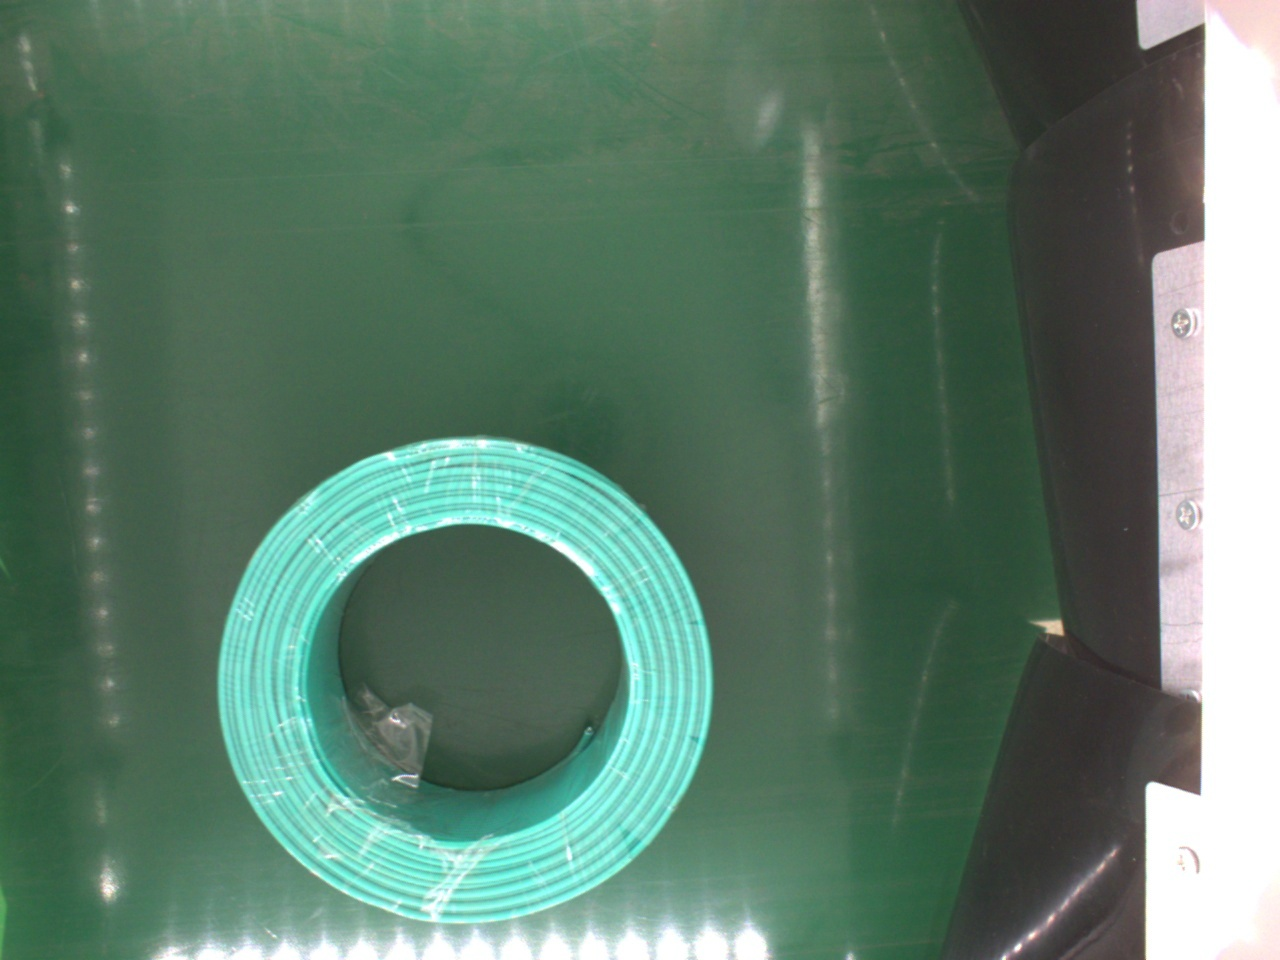green: (218, 436, 721, 929)
